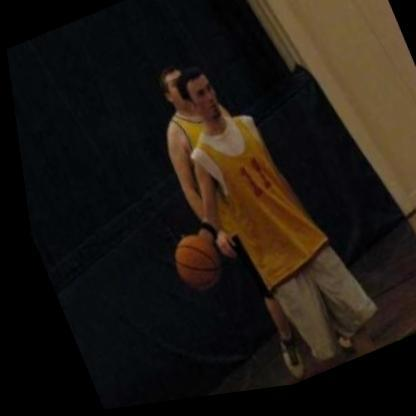basketball: (151, 227, 225, 300)
